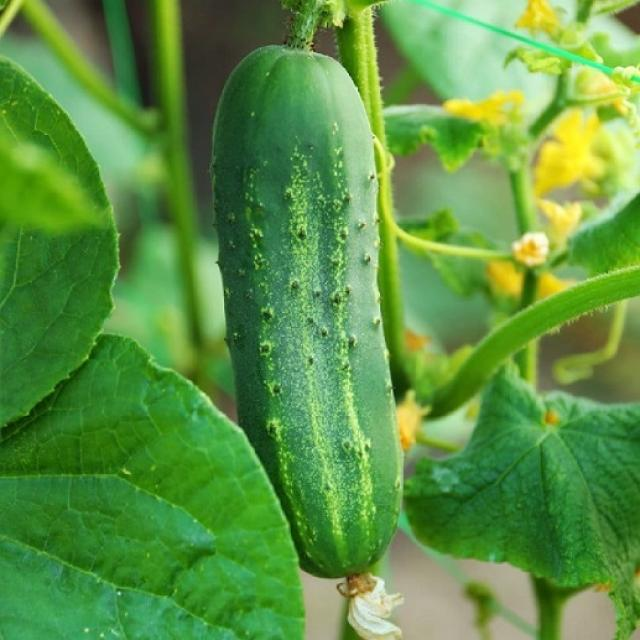cucumber: (208, 43, 400, 578)
